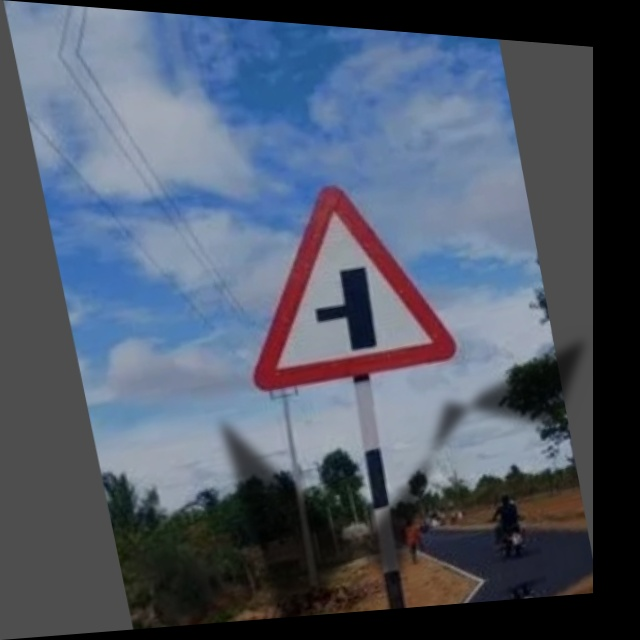Side_Road_Left: (219, 168, 465, 406)
